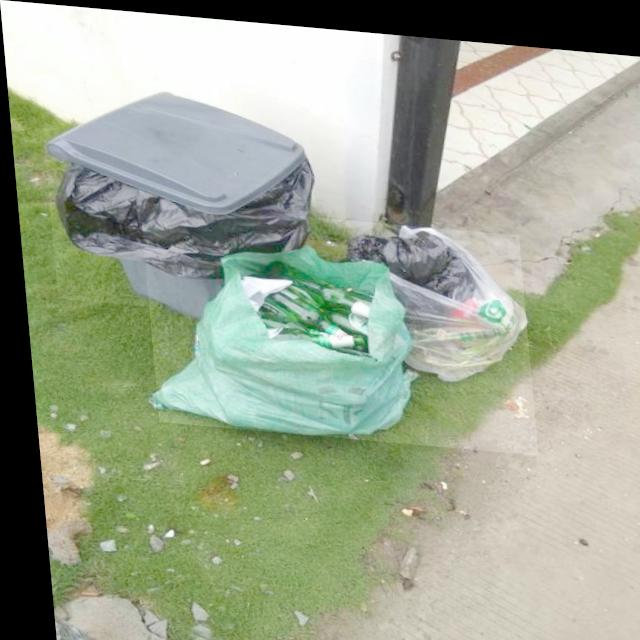garbage: (136, 200, 531, 446)
garbage_bin: (37, 78, 321, 317)
